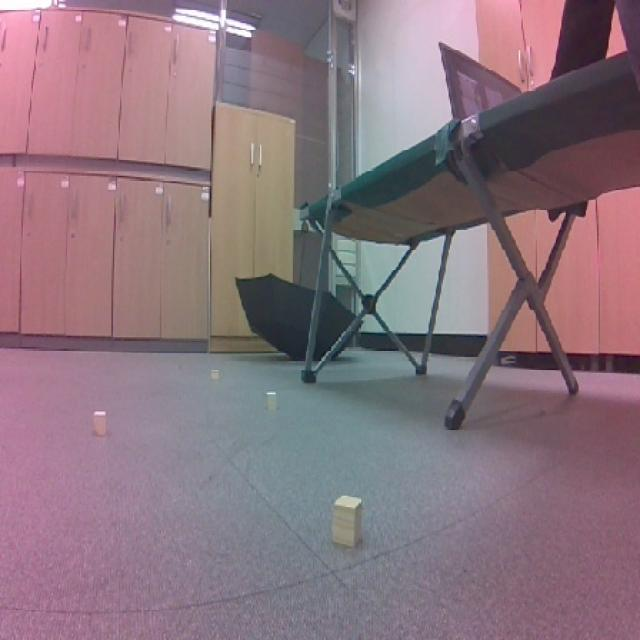obstacle: (324, 488, 374, 552)
